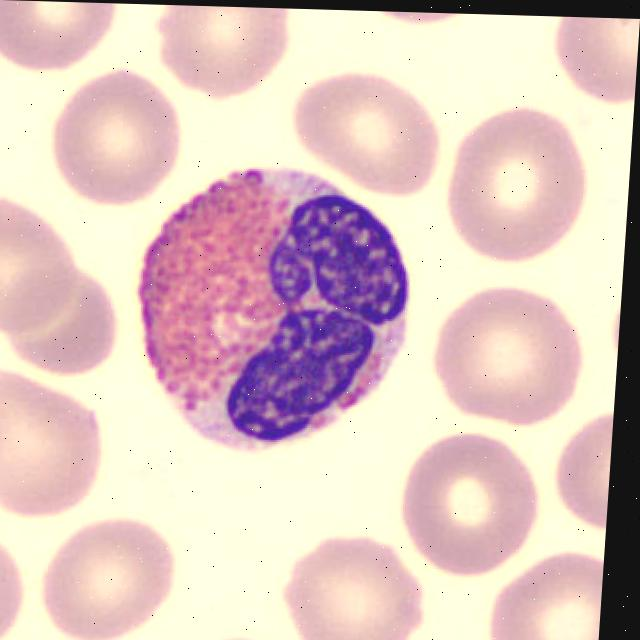eosinophil: (127, 157, 419, 460)
rbc: (423, 281, 590, 431), (442, 107, 594, 270), (35, 499, 198, 640), (47, 66, 202, 208), (399, 429, 544, 580), (270, 536, 459, 640), (291, 77, 451, 198), (0, 364, 107, 522), (4, 258, 133, 380), (145, 4, 294, 109), (476, 541, 605, 640), (0, 202, 82, 340), (0, 0, 129, 84), (546, 17, 640, 110), (546, 413, 614, 529), (0, 514, 35, 640), (341, 10, 486, 33), (601, 279, 623, 372)
